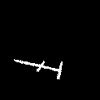double_crochet: (14, 59, 61, 78)
